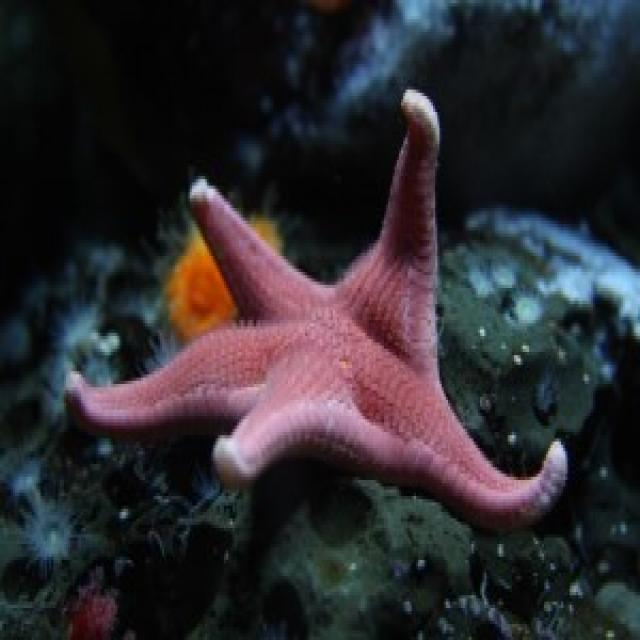Starfish: (55, 76, 572, 533)
